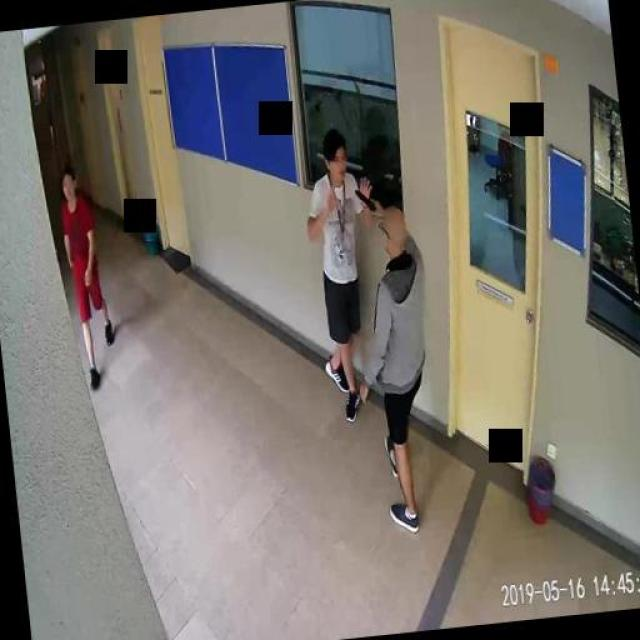gun: (353, 186, 378, 218)
